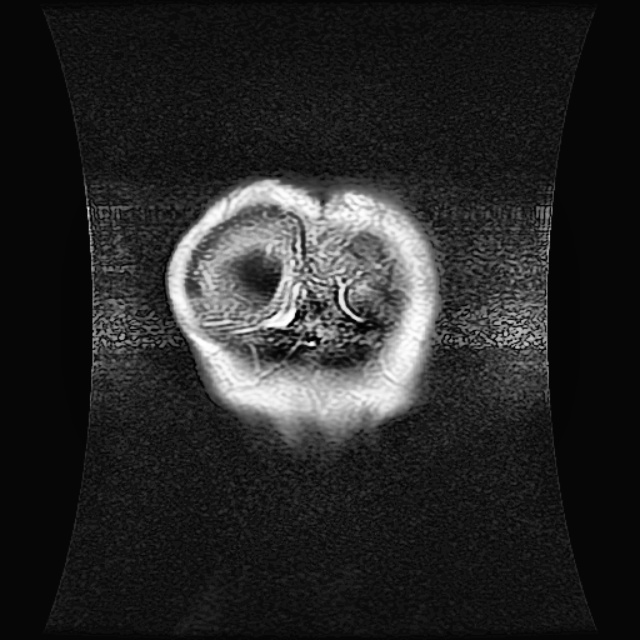Meningioma: (223, 244, 284, 310)
